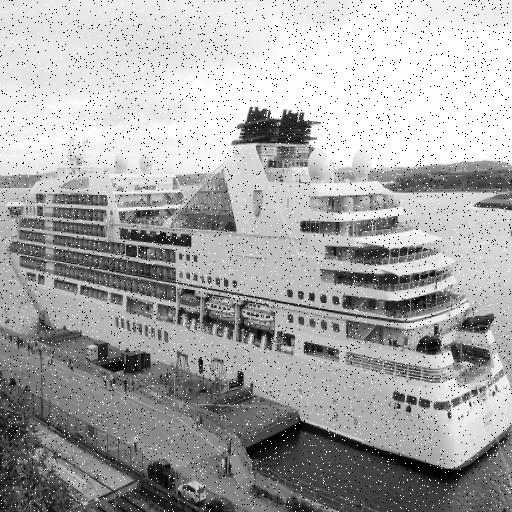cruises: (4, 103, 512, 480)
